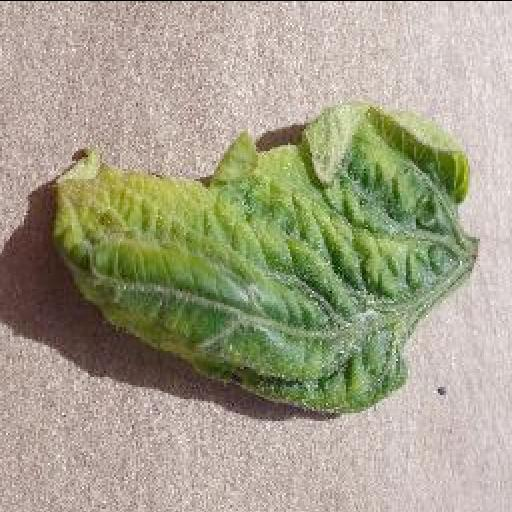disease_tomato: (54, 106, 480, 420)
